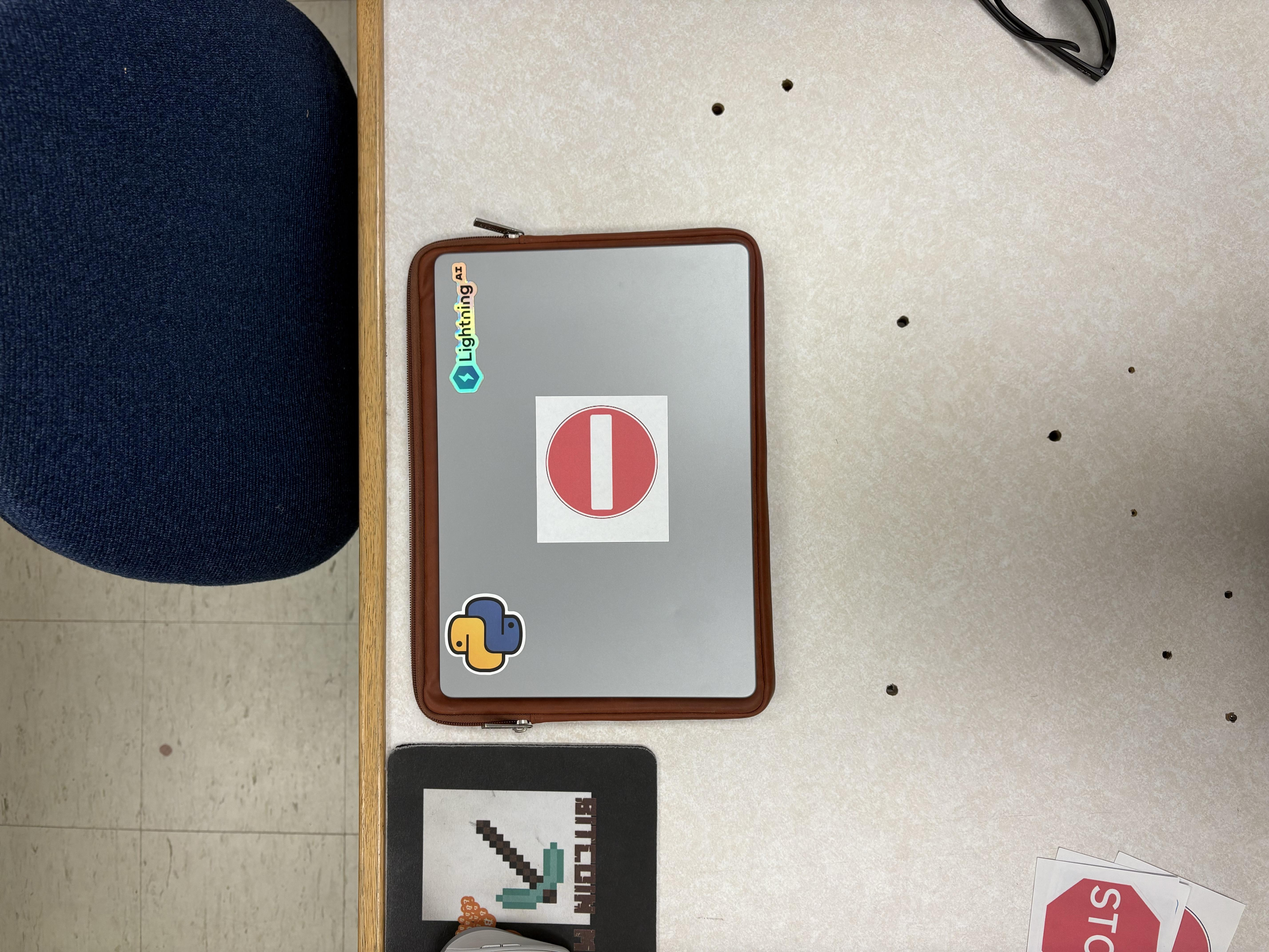No Entry: (536, 396, 673, 548)
